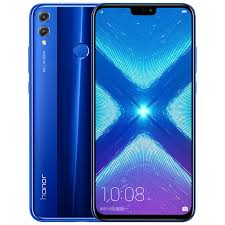huawei: (88, 1, 198, 222), (26, 2, 94, 221)
